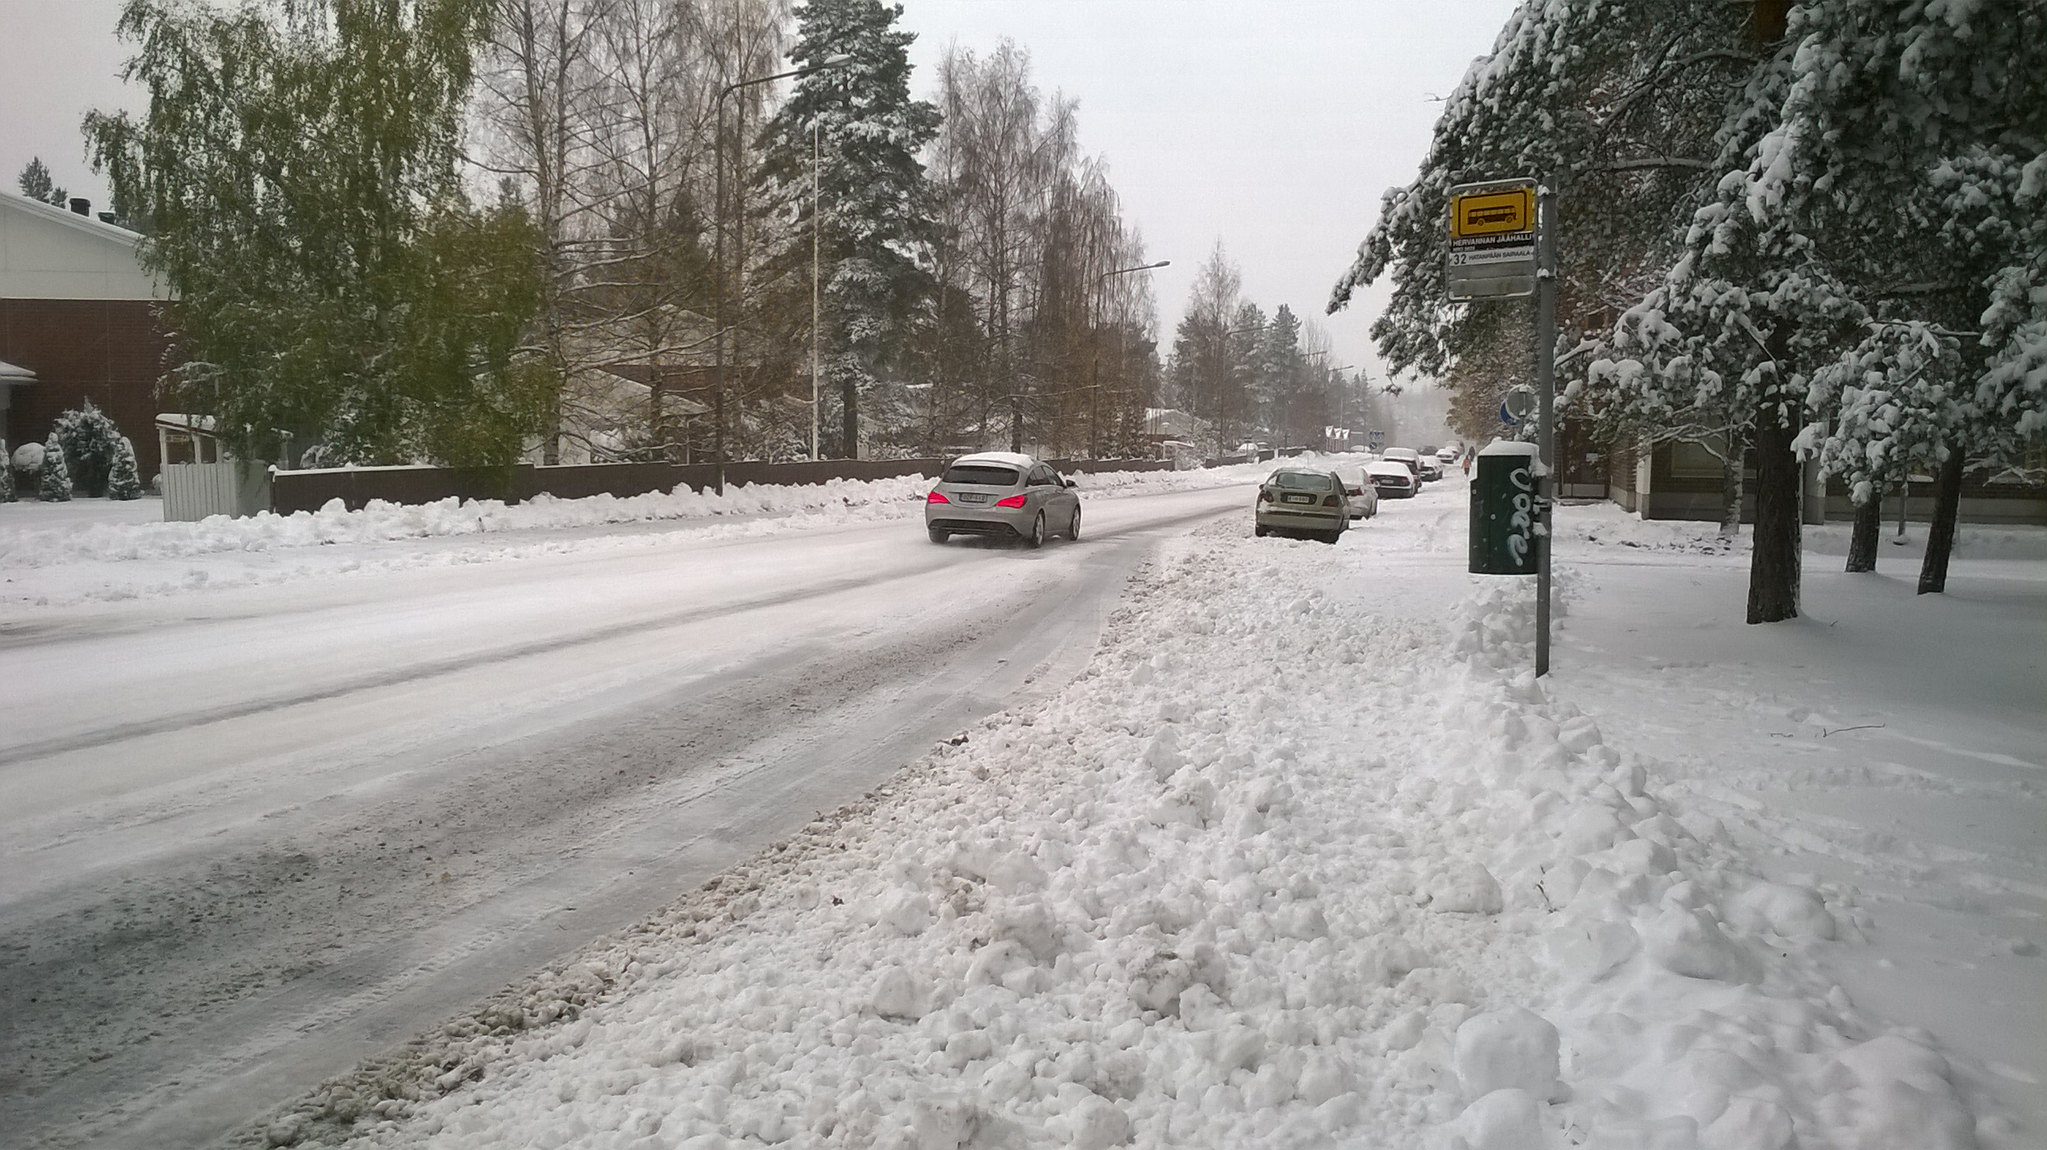car: (922, 456, 1087, 555), (1255, 463, 1351, 543)
